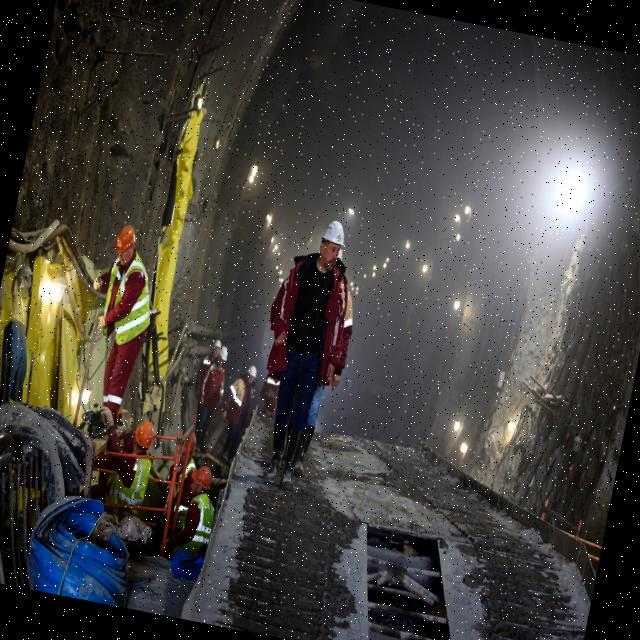Helmet: (319, 220, 350, 256), (111, 223, 140, 261), (131, 420, 159, 453), (190, 466, 217, 495), (180, 432, 198, 464), (217, 349, 231, 370), (246, 365, 260, 384), (211, 340, 223, 359)
Jacket: (98, 259, 155, 349), (178, 492, 218, 559), (111, 452, 152, 516), (226, 382, 256, 432)
NoJacket: (276, 252, 346, 379), (203, 367, 229, 408)
